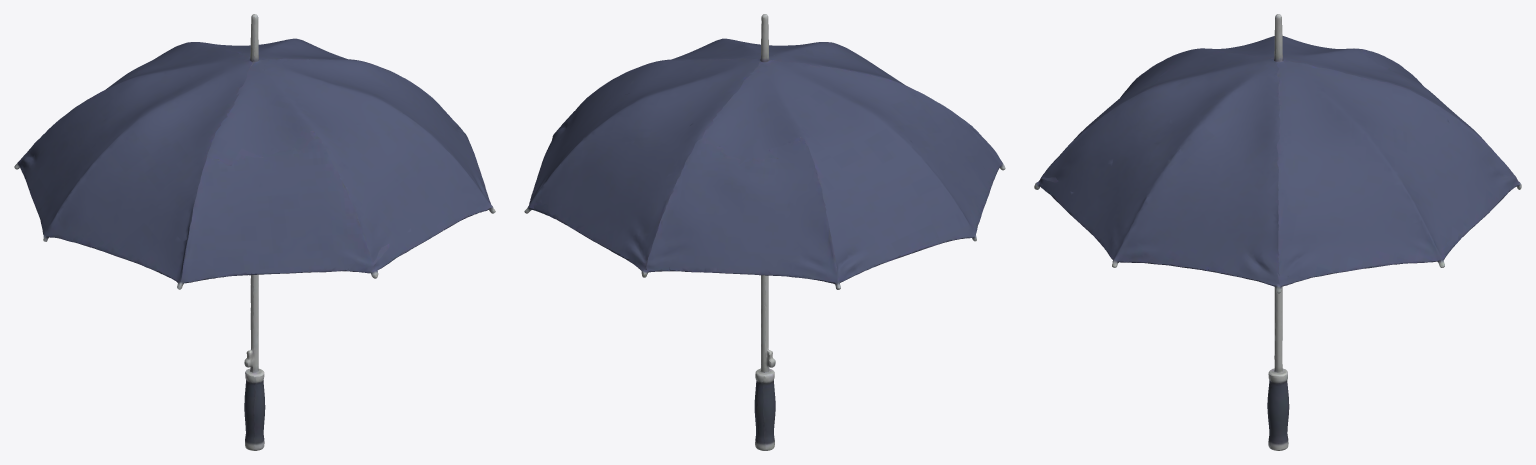
The picture shows the model from 3 angles, left to right: view 1: azimuth 30°, elevation 25°; view 2: azimuth 150°, elevation 25°; view 3: azimuth 270°, elevation 25°; orthographic projection.
Parts seen in each view (by area): view 1: geometry_0; view 2: geometry_0; view 3: geometry_0.
Part boxes in pixels (left/top/right/bottom): geometry_0: left=14, top=14, right=495, bottom=450; geometry_0: left=524, top=14, right=1005, bottom=450; geometry_0: left=1034, top=14, right=1521, bottom=450.
Bounding box in the file's own units: 1.05 × 1.03 × 1.05.
Materials: 1 (1 with a texture image).
